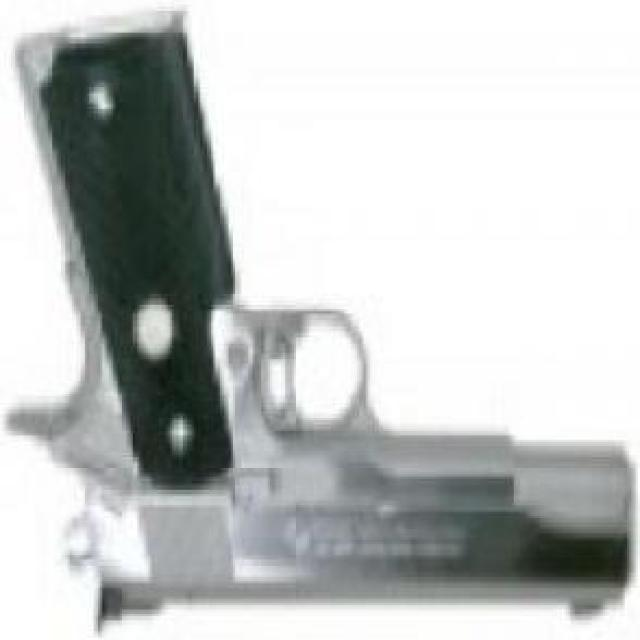pistol: (0, 22, 625, 631)
